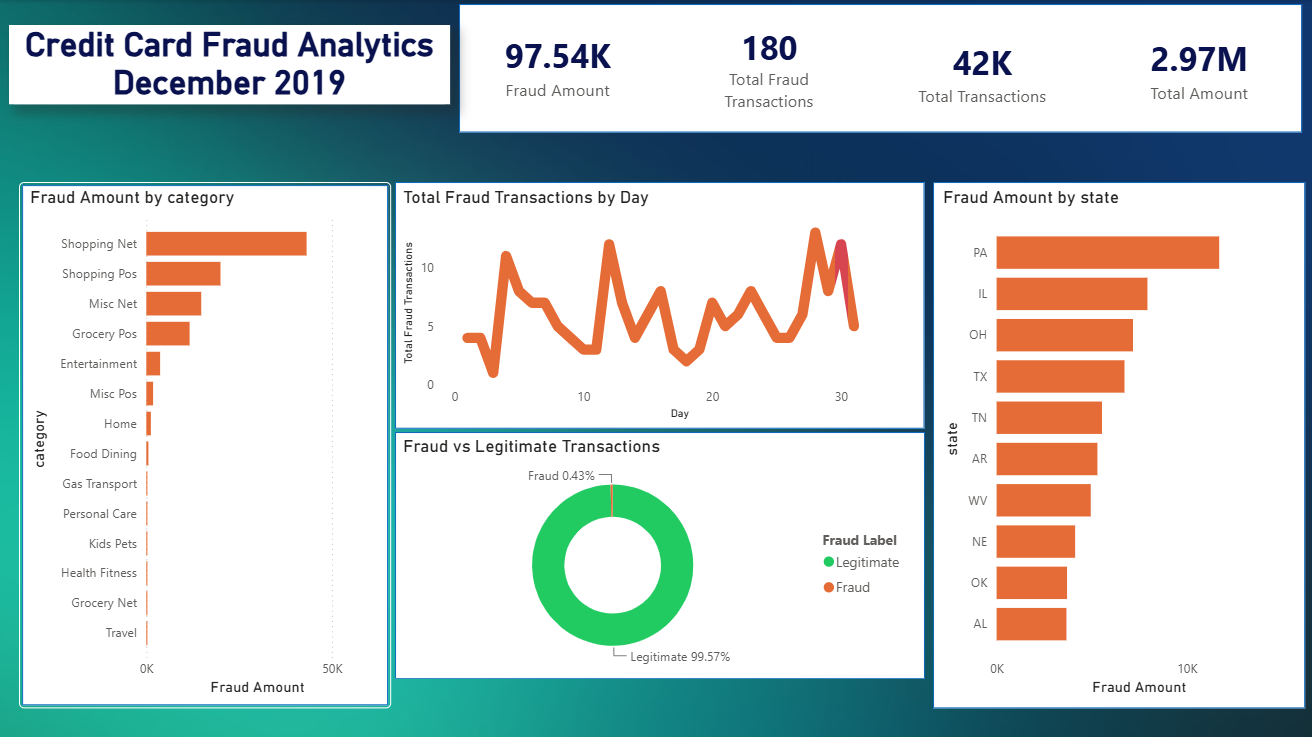

Layout of this report page (visuals, bound fields, positions):
{"tool":"powerbi","page":{"name":"FRAUD ANALYSIS OVERALL","canvas":[1280,720],"ordinal":0},"visuals":[{"type":"shape","box":[385.2,420.2,515.5,240.2],"z":0},{"type":"shape","box":[447.4,3.9,820,125],"z":500},{"type":"shape","box":[385.2,177,515,240],"z":750},{"type":"shape","box":[19.5,177,362,512],"z":812},{"type":"shape","box":[908.4,177,362,512],"z":875},{"type":"cardVisual","title":"Fraud Amounr","fields":{"Data":["cc_data_dec19.Fraud Amount"]},"box":[447.4,1.9,192.6,123.5],"z":1000},{"type":"cardVisual","fields":{"Data":["cc_data_dec19.Total Fraud Transactions"]},"box":[639,3.9,220.8,122.6],"z":2000},{"type":"cardVisual","fields":{"Data":["cc_data_dec19.Total Transactions"]},"box":[857.1,11.3,199.6,117.3],"z":3000},{"type":"clusteredBarChart","fields":{"Category":["cc_data_dec19.category"],"Y":["cc_data_dec19.Fraud Amount"]},"box":[24.8,181.6,349.6,499.6],"z":4000},{"type":"lineChart","fields":{"Category":["cc_data_dec19.trans_date.Variation.Date Hierarchy.Year","cc_data_dec19.trans_date.Variation.Date Hierarchy.Quarter","cc_data_dec19.trans_date.Variation.Date Hierarchy.Month","cc_data_dec19.trans_date.Variation.Date Hierarchy.Day"],"Y":["cc_data_dec19.Total Fraud Transactions"]},"box":[387.9,181.6,508.6,231.2],"z":5000},{"type":"cardVisual","fields":{"Data":["cc_data_dec19.Total Amount"]},"box":[1071.9,3.9,191.6,125.5],"z":6000},{"type":"donutChart","title":"Fraud vs Legitimate Transactions","fields":{"Category":["cc_data_dec19.Fraud Label"],"Y":["cc_data_dec19.Total Transactions"]},"box":[387.9,424,508.6,232.3],"z":7000},{"type":"clusteredBarChart","fields":{"Category":["cc_data_dec19.state"],"Y":["cc_data_dec19.Fraud Amount"]},"box":[913.5,181.6,349.6,499.6],"z":8000},{"type":"textbox","title":"Credit Card Fraud Analytics December 2019","box":[0,26.3,437.7,78.8],"z":9000}]}

Visuals, with their boxes in screenshot pixels (x1, y1, x2, y2), scaled from the page's 1280x720 canvas onto the 1312x737 screenshot:
shape: bbox(395, 430, 923, 676)
shape: bbox(459, 4, 1299, 132)
shape: bbox(395, 181, 923, 427)
shape: bbox(20, 181, 391, 705)
shape: bbox(931, 181, 1302, 705)
"Fraud Amounr" cardVisual: bbox(459, 2, 656, 128)
cardVisual - cc_data_dec19.Total Fraud Transactions: bbox(655, 4, 881, 129)
cardVisual - cc_data_dec19.Total Transactions: bbox(879, 12, 1083, 132)
clusteredBarChart - cc_data_dec19.category x cc_data_dec19.Fraud Amount: bbox(25, 186, 384, 697)
lineChart - cc_data_dec19.trans_date.Variation.Date Hierarchy.Year x cc_data_dec19.trans_date.Variation.Date Hierarchy.Quarter: bbox(398, 186, 919, 423)
cardVisual - cc_data_dec19.Total Amount: bbox(1099, 4, 1295, 132)
"Fraud vs Legitimate Transactions" donutChart: bbox(398, 434, 919, 672)
clusteredBarChart - cc_data_dec19.state x cc_data_dec19.Fraud Amount: bbox(936, 186, 1295, 697)
"Credit Card Fraud Analytics December 2019" textbox: bbox(0, 27, 449, 108)
